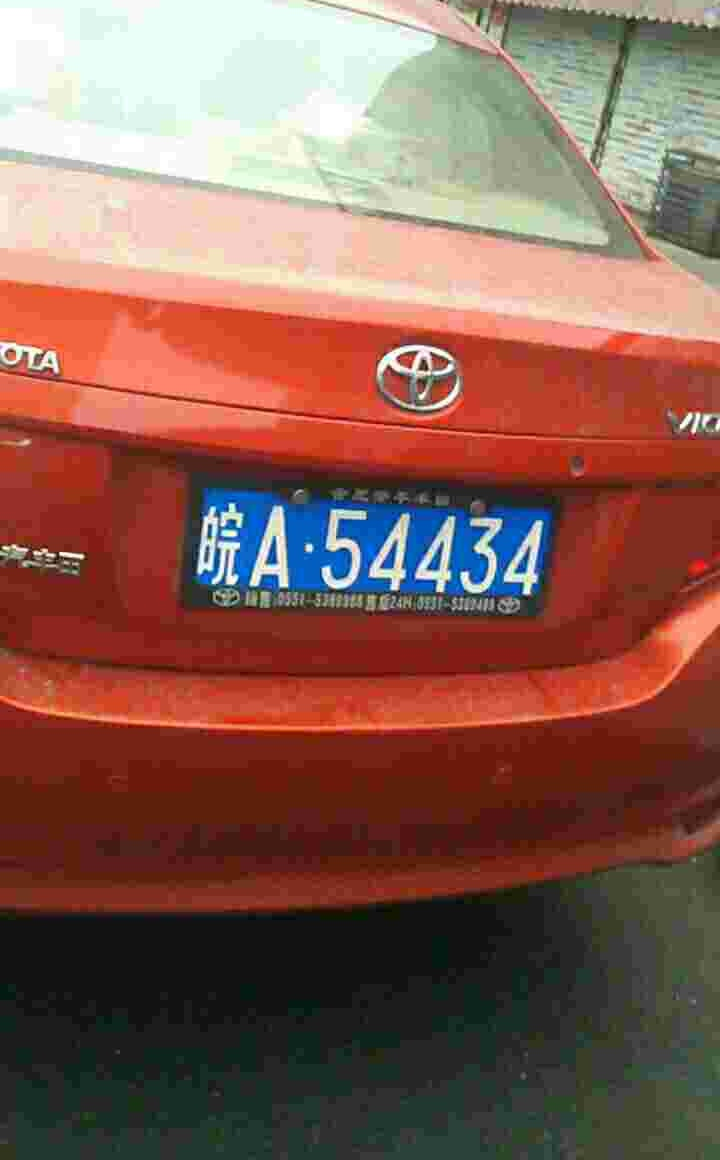license_plate: (197, 488, 554, 606)
